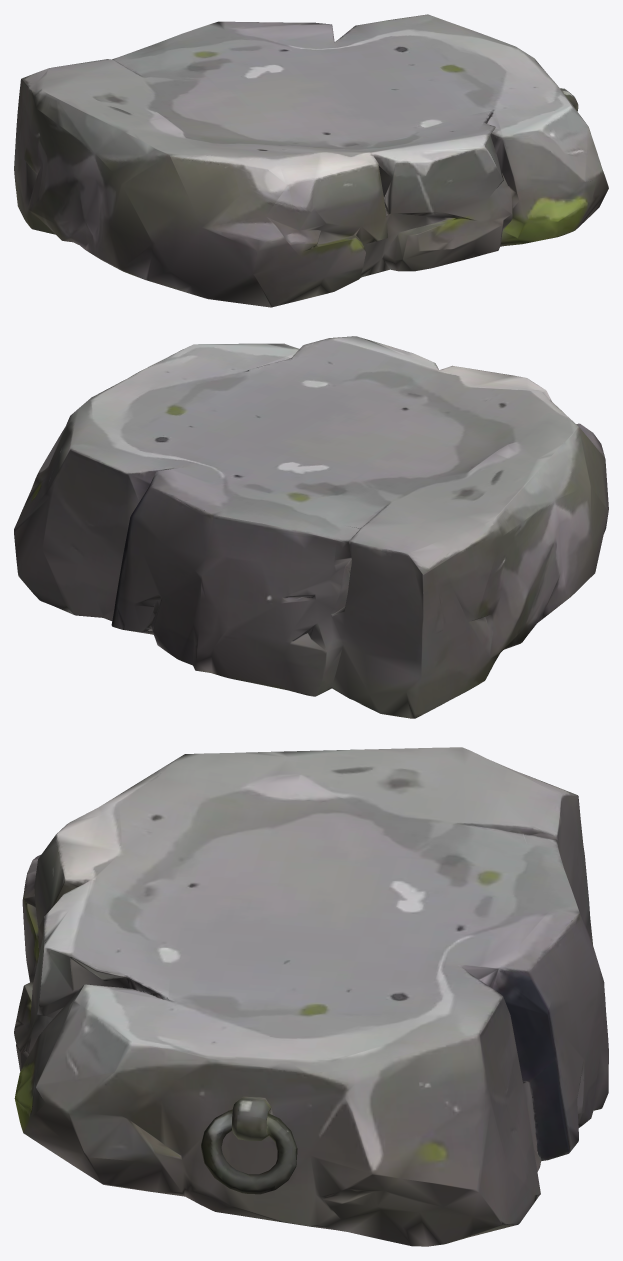
The model's file is offering-stone.glb.
The picture shows the model from 3 angles, top to bottom: view 1: azimuth 30°, elevation 25°; view 2: azimuth 150°, elevation 25°; view 3: azimuth 270°, elevation 25°; orthographic projection. The views are drawn at different scales.
Bounding box in the file's own units: 3 × 1 × 2.42.
Materials: 1 (1 with a texture image).
